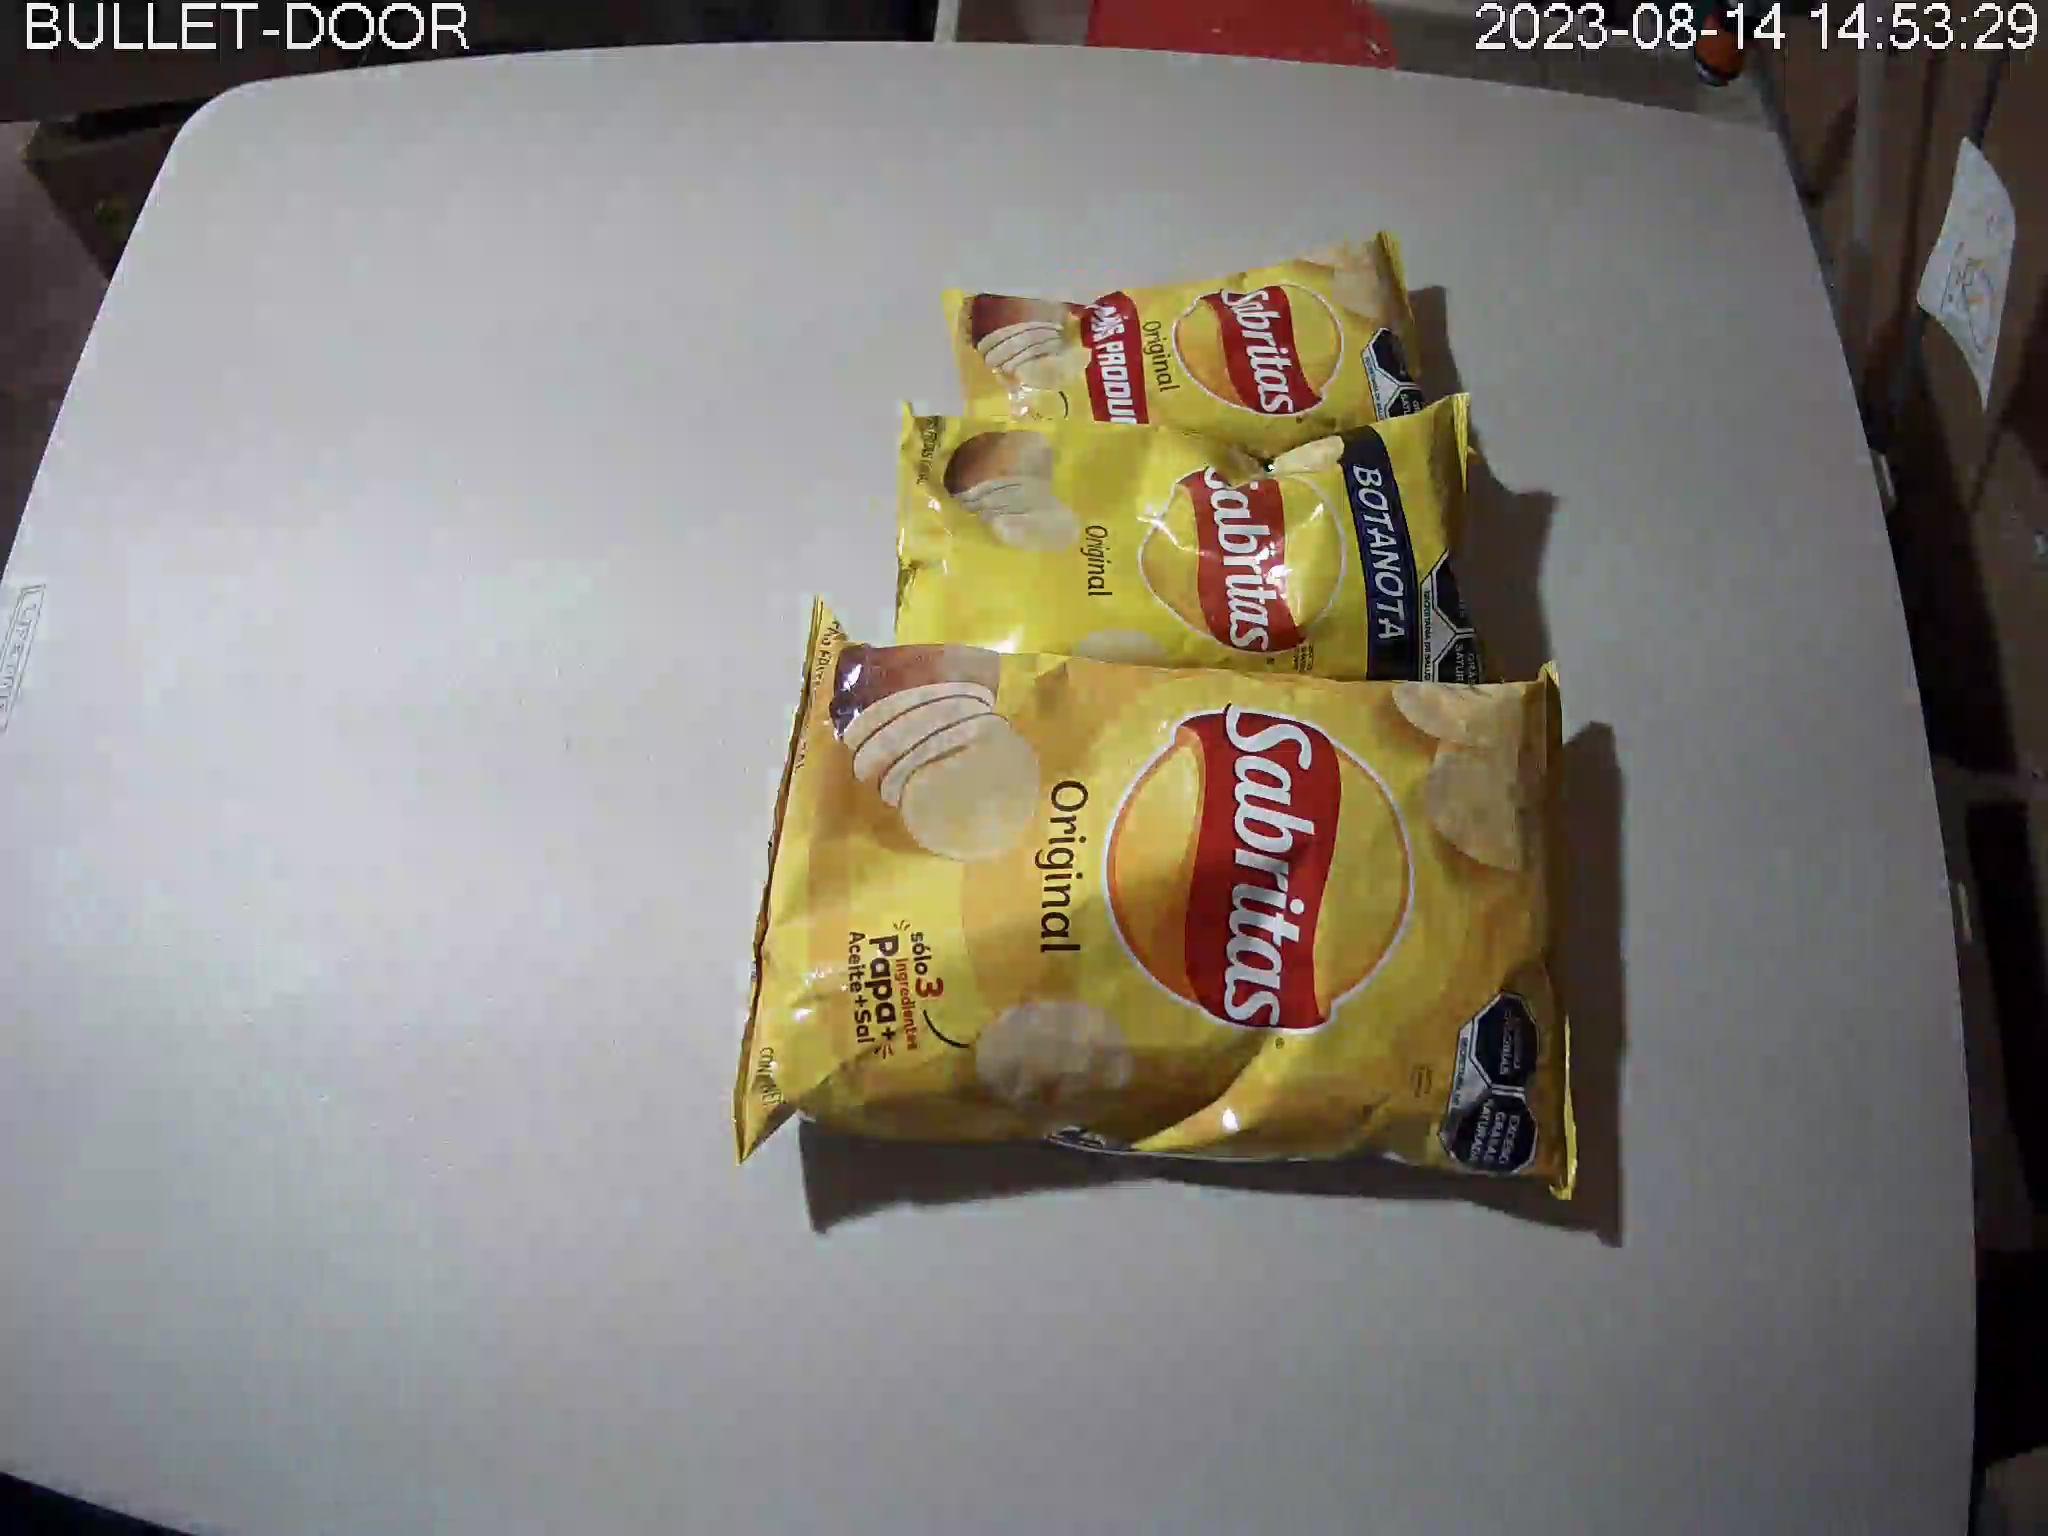Sabritas_160_F: (734, 595, 1580, 1202)
Sabritas_45_F: (939, 231, 1492, 478)
Sabritas_64_F: (890, 390, 1506, 700)
